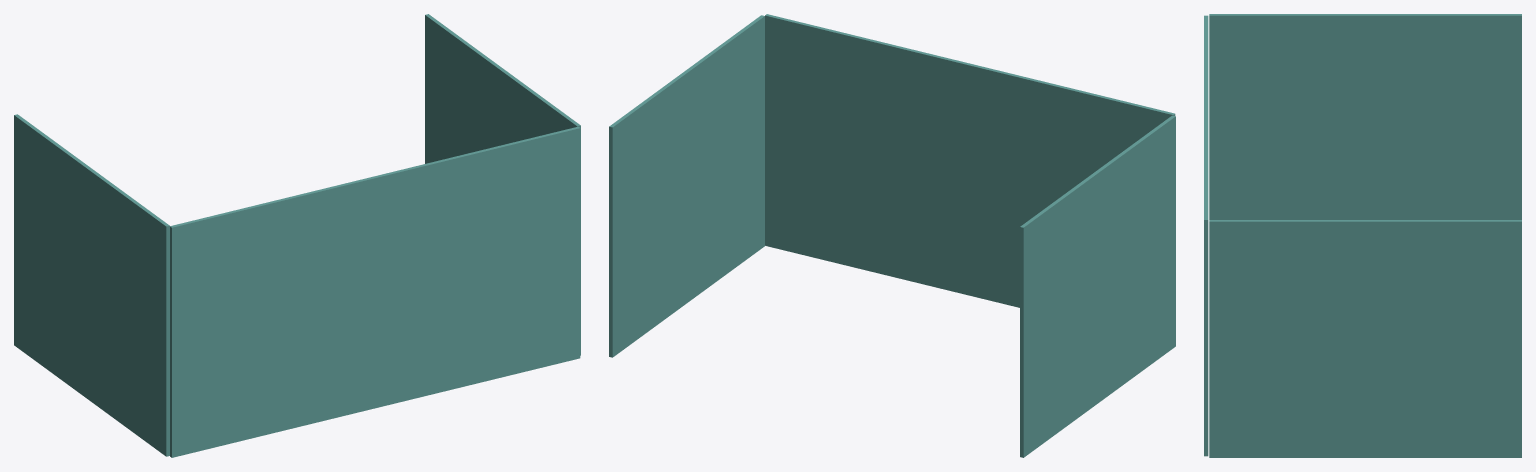
The model's file is SM_Cart_Glass_Wide_01.fbx.
3 views of the same model, side by side, from view 1: azimuth 30°, elevation 25°; view 2: azimuth 150°, elevation 25°; view 3: azimuth 270°, elevation 25° (orthographic). The views are drawn at different scales.
Parts seen in each view (by area): view 1: SM_Cart_Glass_Wide_01; view 2: SM_Cart_Glass_Wide_01; view 3: SM_Cart_Glass_Wide_01.
Part boxes in pixels (x1=…): SM_Cart_Glass_Wide_01: x1=14, y1=14, x2=580, y2=457; SM_Cart_Glass_Wide_01: x1=609, y1=14, x2=1175, y2=457; SM_Cart_Glass_Wide_01: x1=1204, y1=14, x2=1521, y2=457.
Size of the model in its own units: 1.38 by 0.734 by 0.895.
1 material, 1 textured.
